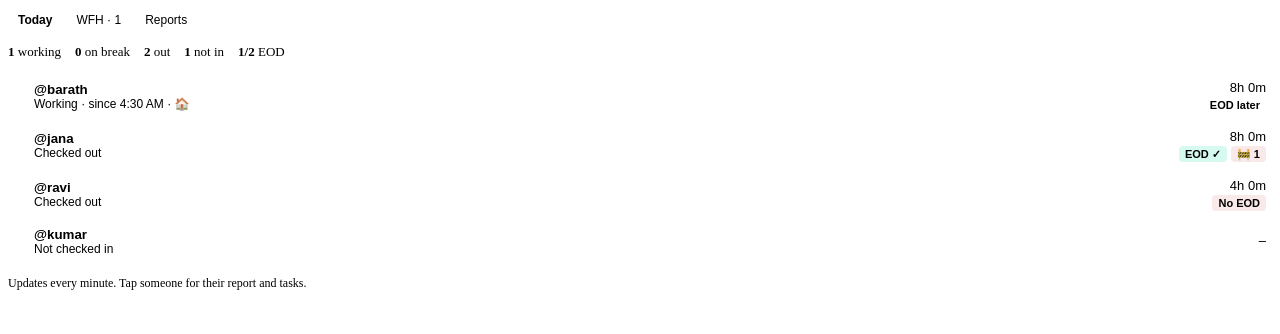
Test case: today: a member opens their report and tasks; ← Team goes back
Click the button "@jana Checked out 8h 0m EOD ✓ 🚧 1" at {"x": 54, "y": 138}, box [8,121,1272,170]
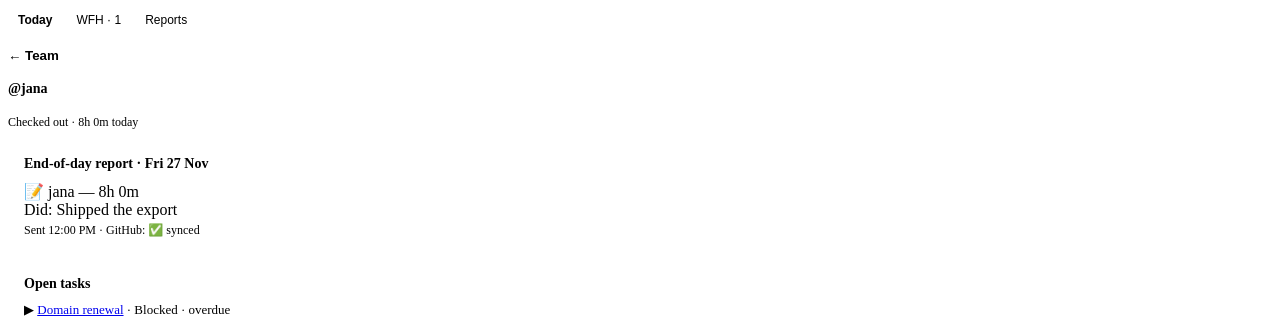
Expected: the text "📝 jana — 8h 0m Did: Shipped the export" is shown, [24,183,177,218]
Expected: the text "Sent 12:00 PM · GitHub: ✅ synced" is shown, [24,223,200,237]
Expected: the link "Domain renewal" is shown, [37,302,124,317]
Click the button "← Team" at {"x": 37, "y": 56}, box [8,44,67,67]
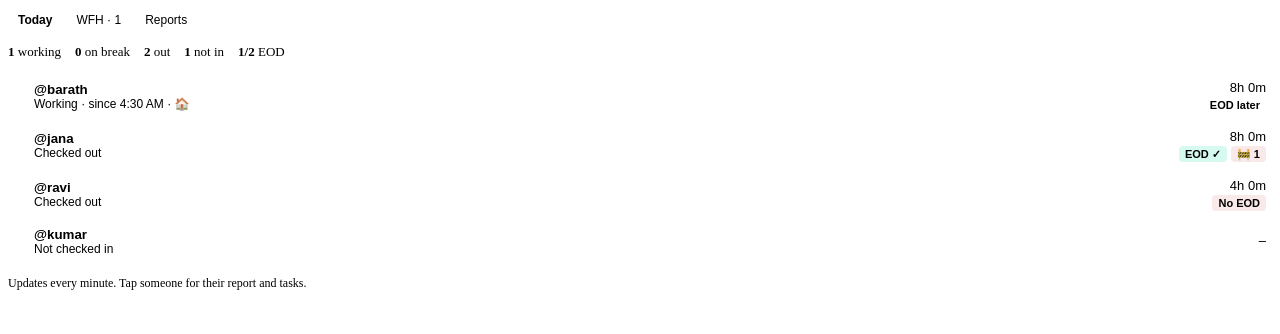
Expected: the element named "Team summary" is shown, [8,44,285,59]
